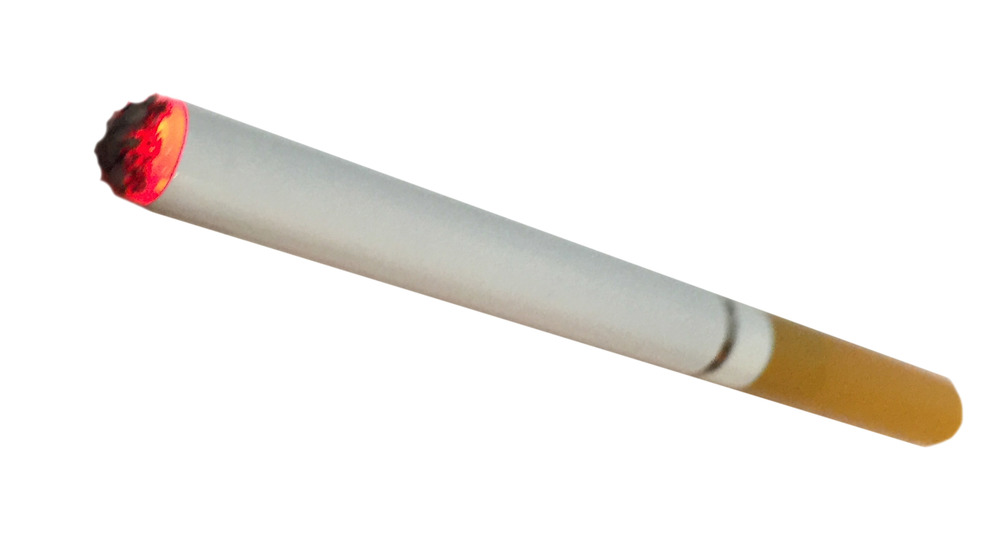cigarette: (71, 66, 968, 495)
